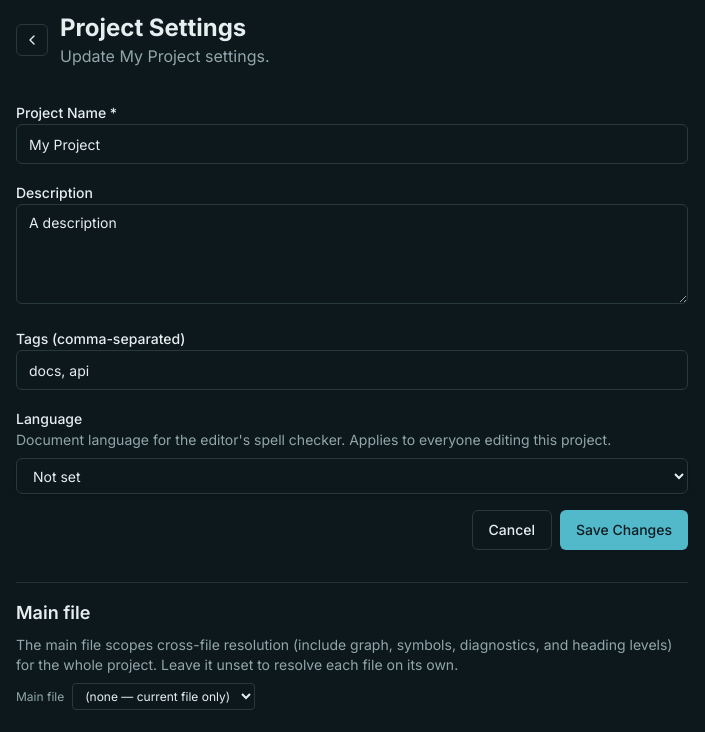
Test: SettingsClient — saving › shows a generic error when the rejection is not an Error
Click the button "Save Changes" at (624, 530), box [560, 510, 688, 550]
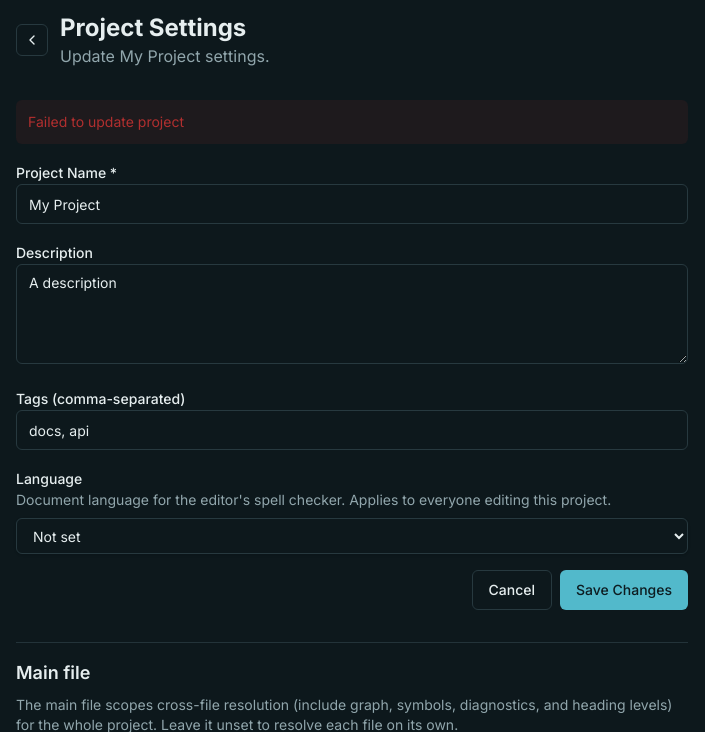
Result: the text "Failed to update project" is shown at [16, 100, 688, 144]
